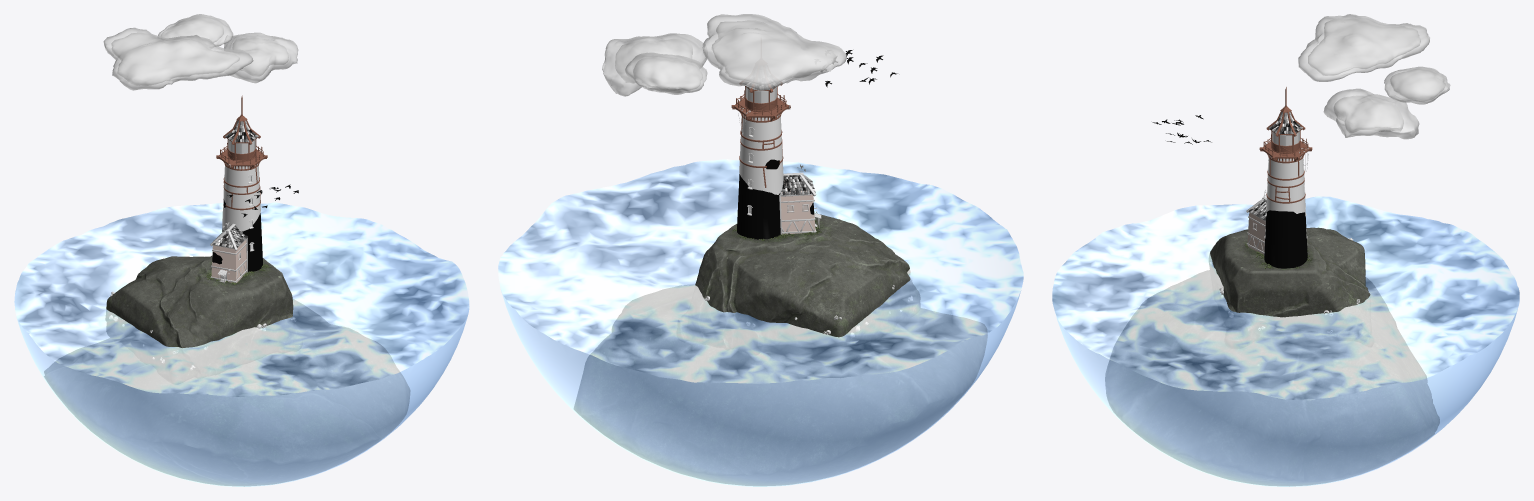
The model's file is lighthouseFinal.fbx.
3 renders of one model, left to right at view 1: azimuth 30°, elevation 25°; view 2: azimuth 150°, elevation 25°; view 3: azimuth 270°, elevation 25°, orthographic. The views are drawn at different scales.
Parts seen in each view (by area): view 1: Ocean 2, Cube.016, Icosphere.006, Icosphere.005, Cylinder, Icosphere, Icosphere.003, Icosphere.001, Cube.010, Cube.061, Icosphere.004, Plane.105 (+1 smaller); view 2: Ocean 2, Cube.016, Icosphere.006, Icosphere.005, Cylinder, Icosphere, Icosphere.003, Icosphere.004, Icosphere.001, Cube.061, Cube.010, Cube.080 (+2 smaller); view 3: Ocean 2, Cube.016, Icosphere.006, Icosphere.005, Cylinder, Icosphere, Icosphere.001, Icosphere.003, Icosphere.004, Cube.010, Plane.105, Cylinder.007 (+1 smaller).
Part boxes in pixels (left/top/right/bottom): Ocean 2: left=14, top=202, right=469, bottom=486; Cube.016: left=44, top=255, right=409, bottom=486; Icosphere.006: left=103, top=27, right=253, bottom=90; Icosphere.005: left=111, top=33, right=239, bottom=85; Cylinder: left=222, top=121, right=262, bottom=271; Icosphere: left=224, top=32, right=298, bottom=83; Icosphere.003: left=158, top=14, right=233, bottom=48; Icosphere.001: left=232, top=38, right=288, bottom=76; Cube.010: left=216, top=95, right=267, bottom=166; Cube.061: left=211, top=239, right=246, bottom=282; Icosphere.004: left=161, top=17, right=223, bottom=42; Plane.105: left=212, top=120, right=258, bottom=248; Ocean 2: left=498, top=159, right=1023, bottom=486; Cube.016: left=574, top=213, right=987, bottom=485; Icosphere.006: left=702, top=14, right=846, bottom=91; Icosphere.005: left=712, top=20, right=835, bottom=84; Cylinder: left=737, top=87, right=783, bottom=239; Icosphere: left=602, top=33, right=707, bottom=96; Icosphere.003: left=625, top=52, right=707, bottom=94; Icosphere.004: left=633, top=57, right=702, bottom=92; Icosphere.001: left=615, top=39, right=692, bottom=83; Cube.061: left=780, top=179, right=815, bottom=234; Cube.010: left=731, top=81, right=790, bottom=118; Cube.080: left=779, top=172, right=821, bottom=234; Ocean 2: left=1052, top=196, right=1519, bottom=486; Cube.016: left=1105, top=227, right=1439, bottom=485; Icosphere.006: left=1298, top=14, right=1429, bottom=81; Icosphere.005: left=1308, top=18, right=1420, bottom=75; Cylinder: left=1264, top=113, right=1307, bottom=268; Icosphere: left=1323, top=88, right=1419, bottom=139; Icosphere.001: left=1334, top=96, right=1403, bottom=132; Icosphere.003: left=1384, top=66, right=1450, bottom=104; Icosphere.004: left=1390, top=68, right=1445, bottom=101; Cube.010: left=1259, top=87, right=1312, bottom=159; Plane.105: left=1248, top=112, right=1302, bottom=220; Cylinder.007: left=1260, top=150, right=1311, bottom=203.
Bounding box in the file's own units: 1664 × 1641 × 1670.
